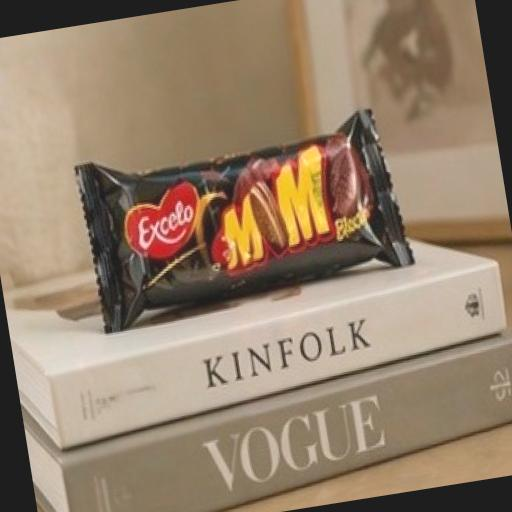MOMO: (32, 60, 476, 414)
